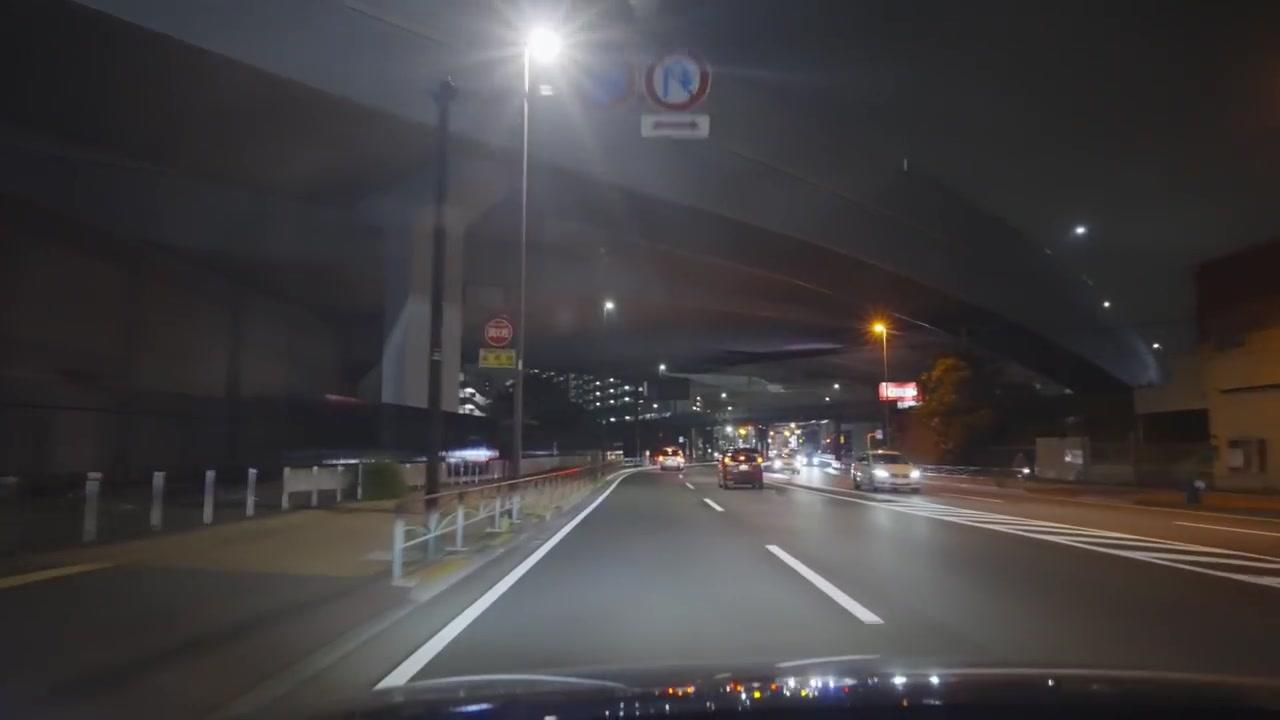car: (851, 451, 925, 493), (718, 447, 763, 490), (654, 449, 686, 469), (810, 454, 840, 469)
